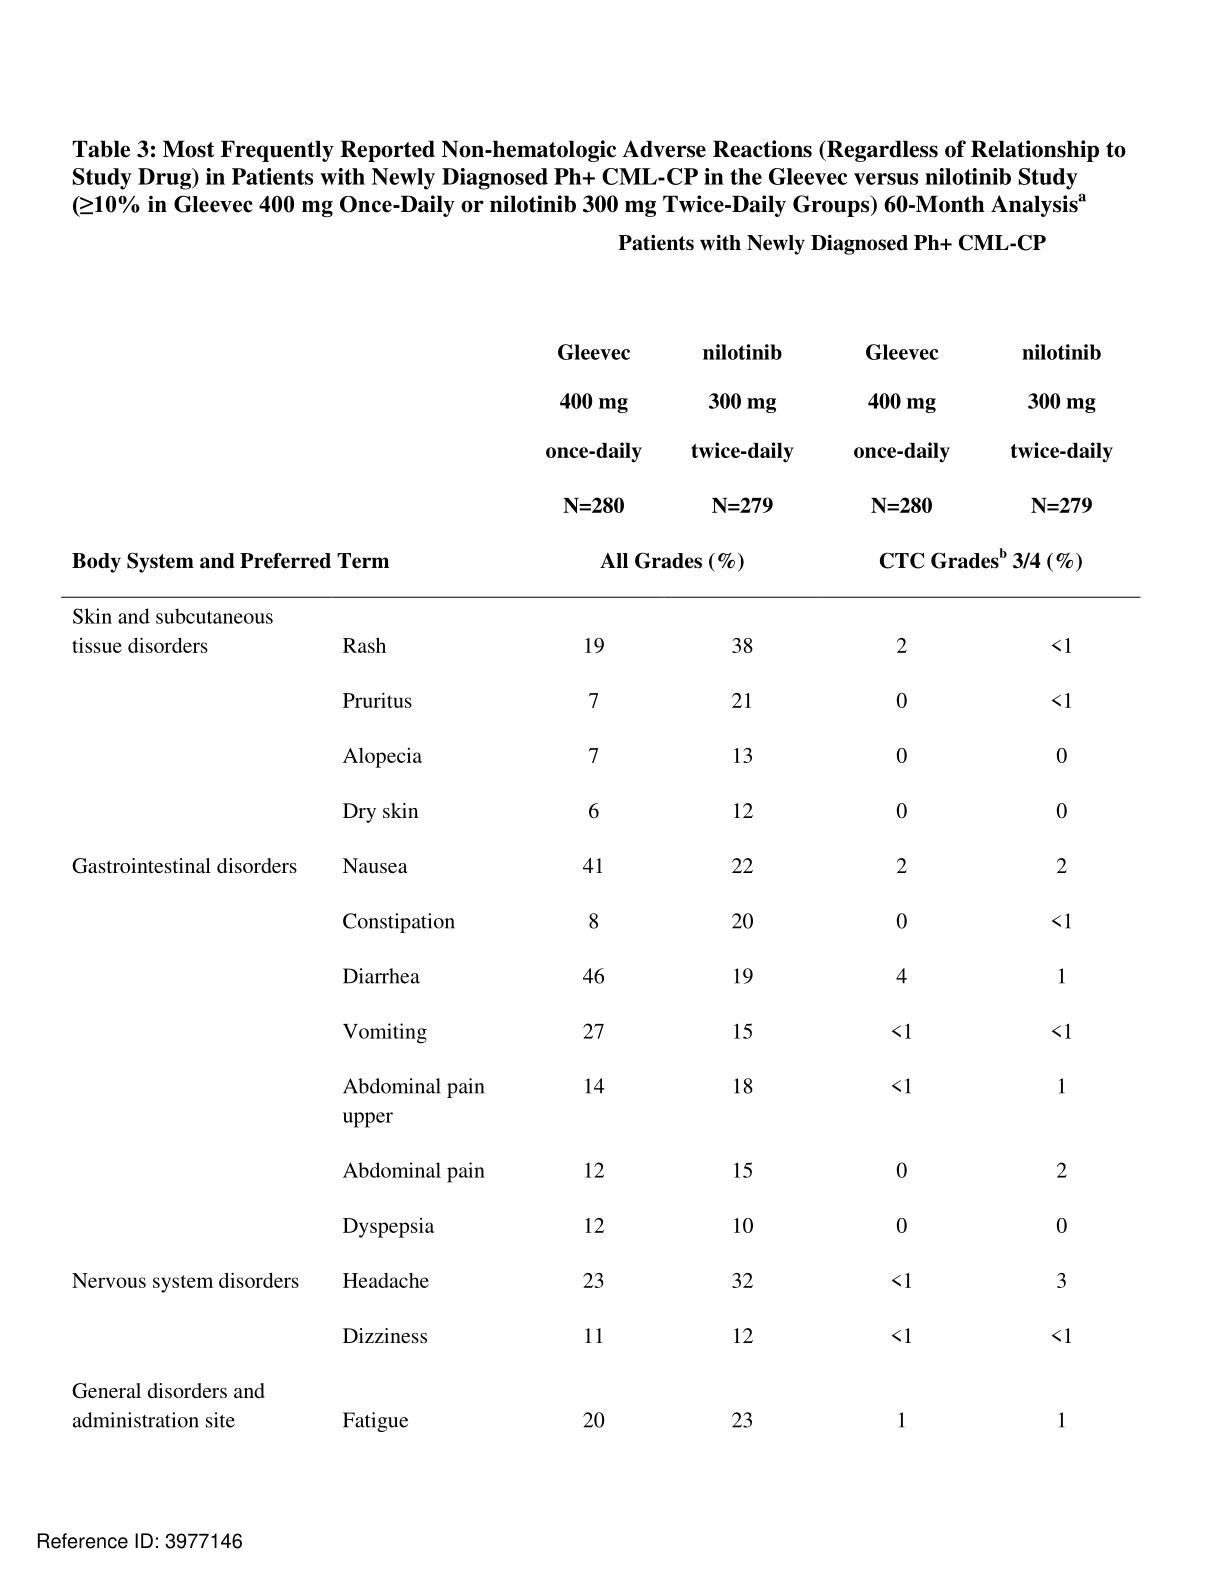partial_lined_merged_cells: (58, 330, 1137, 1441)
